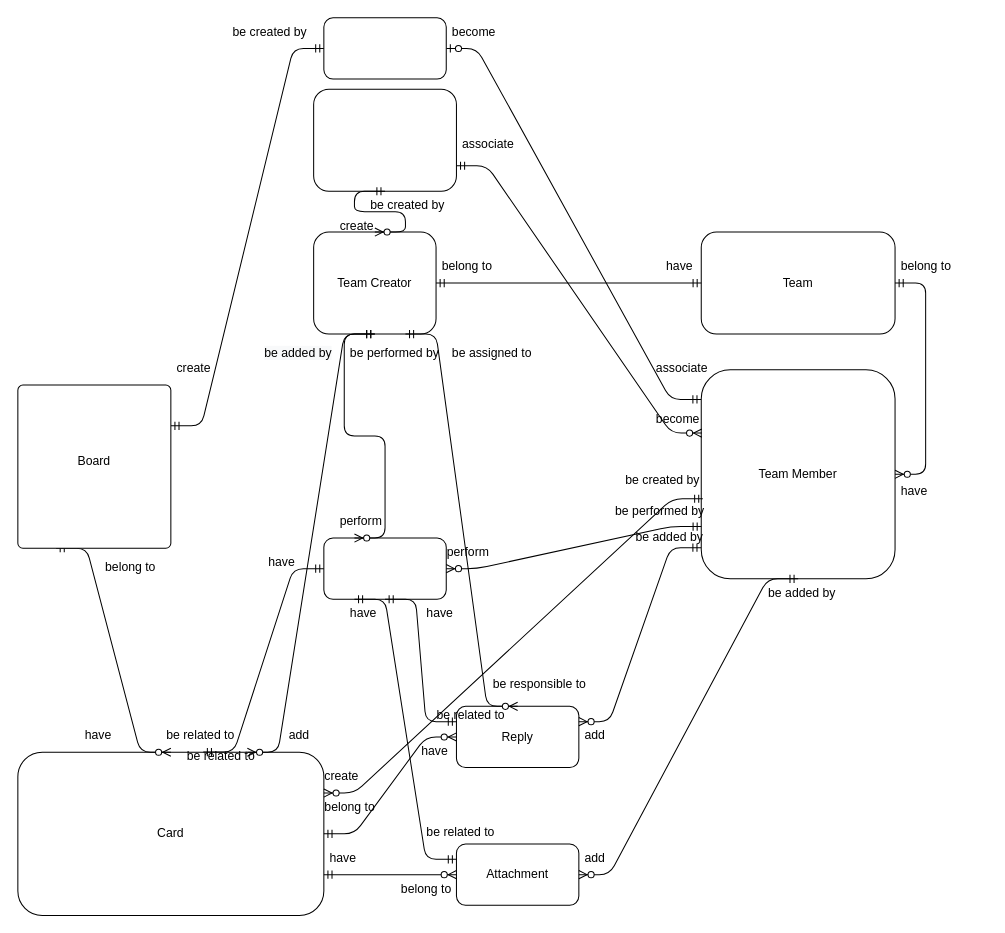
This 1005x933 diagram has some shape labels left out. The shapes that lost their labels are listed below. From the top down, each one's centre as x and y in pixels, then its label:
At (384,48): "Board Creator".
At (384,139): "User".
At (384,568): "Team Activity".
